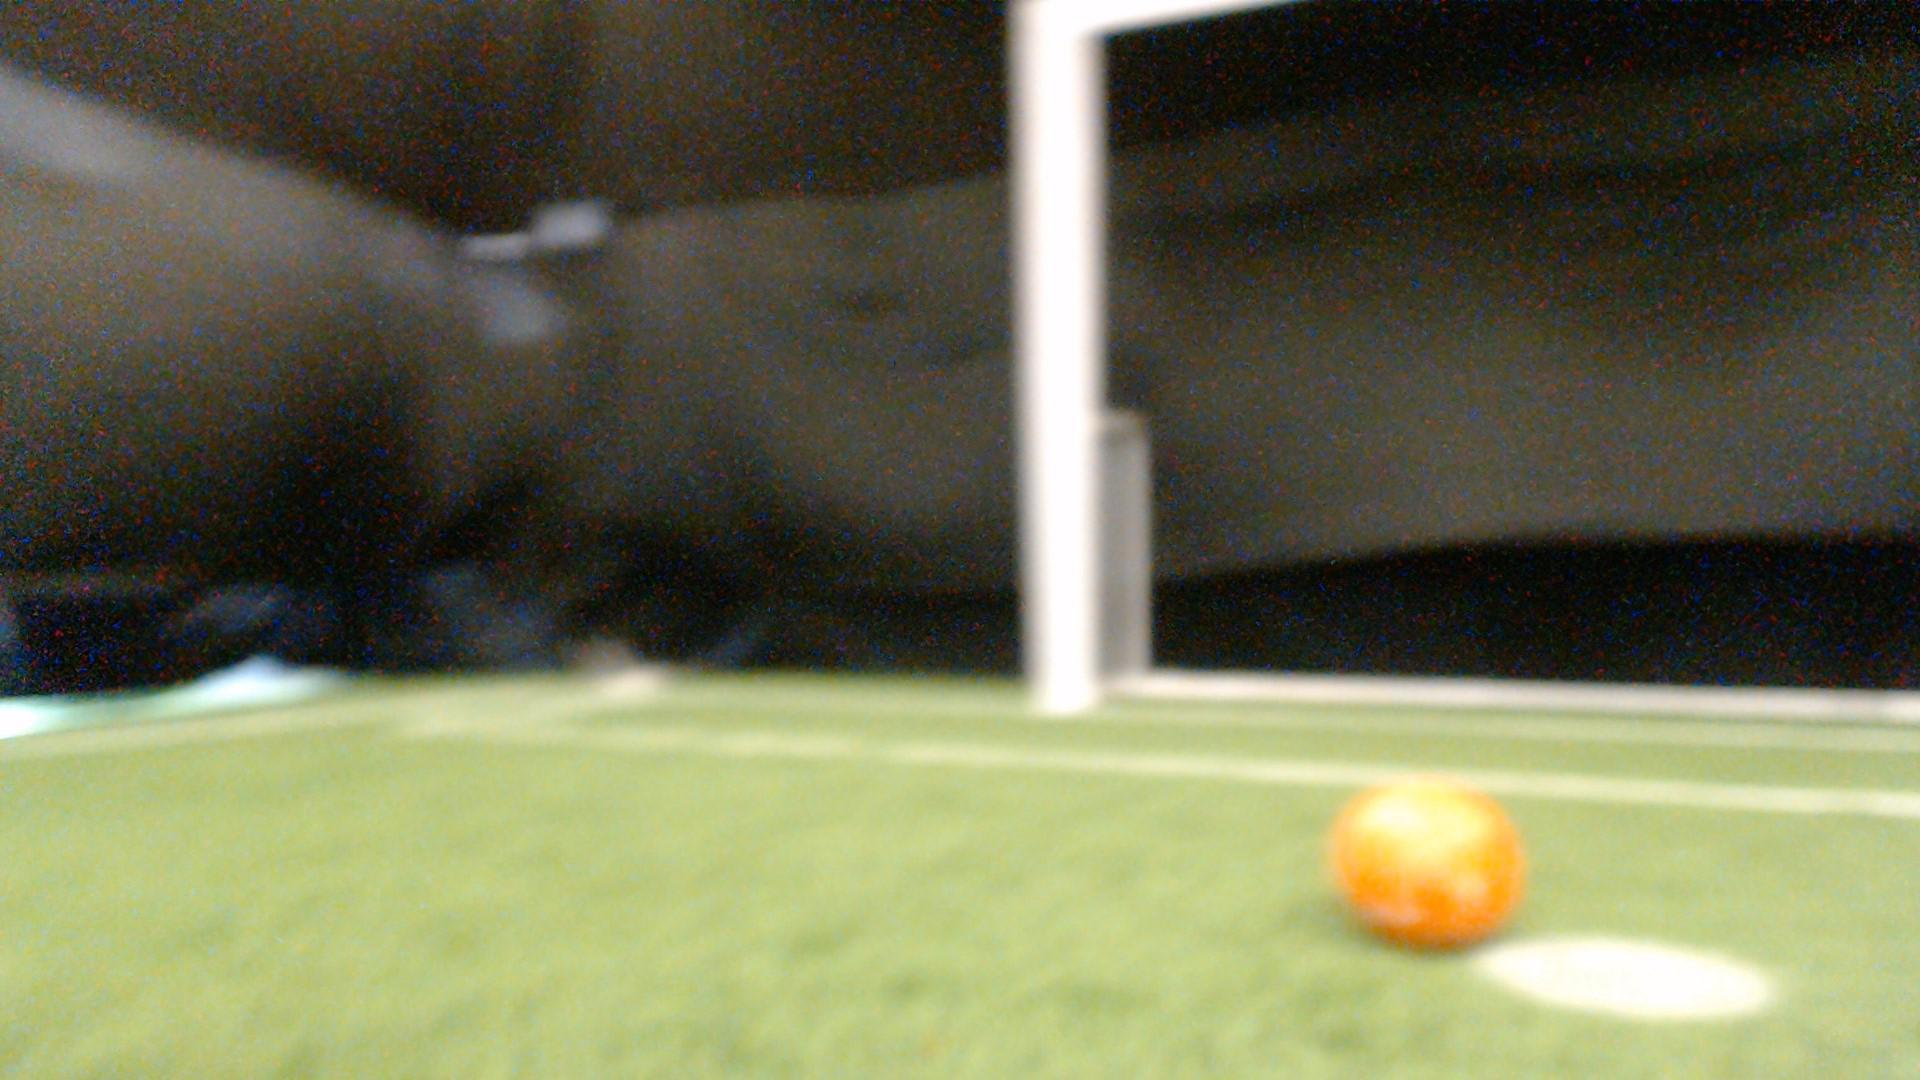bola: (1304, 756, 1552, 968)
